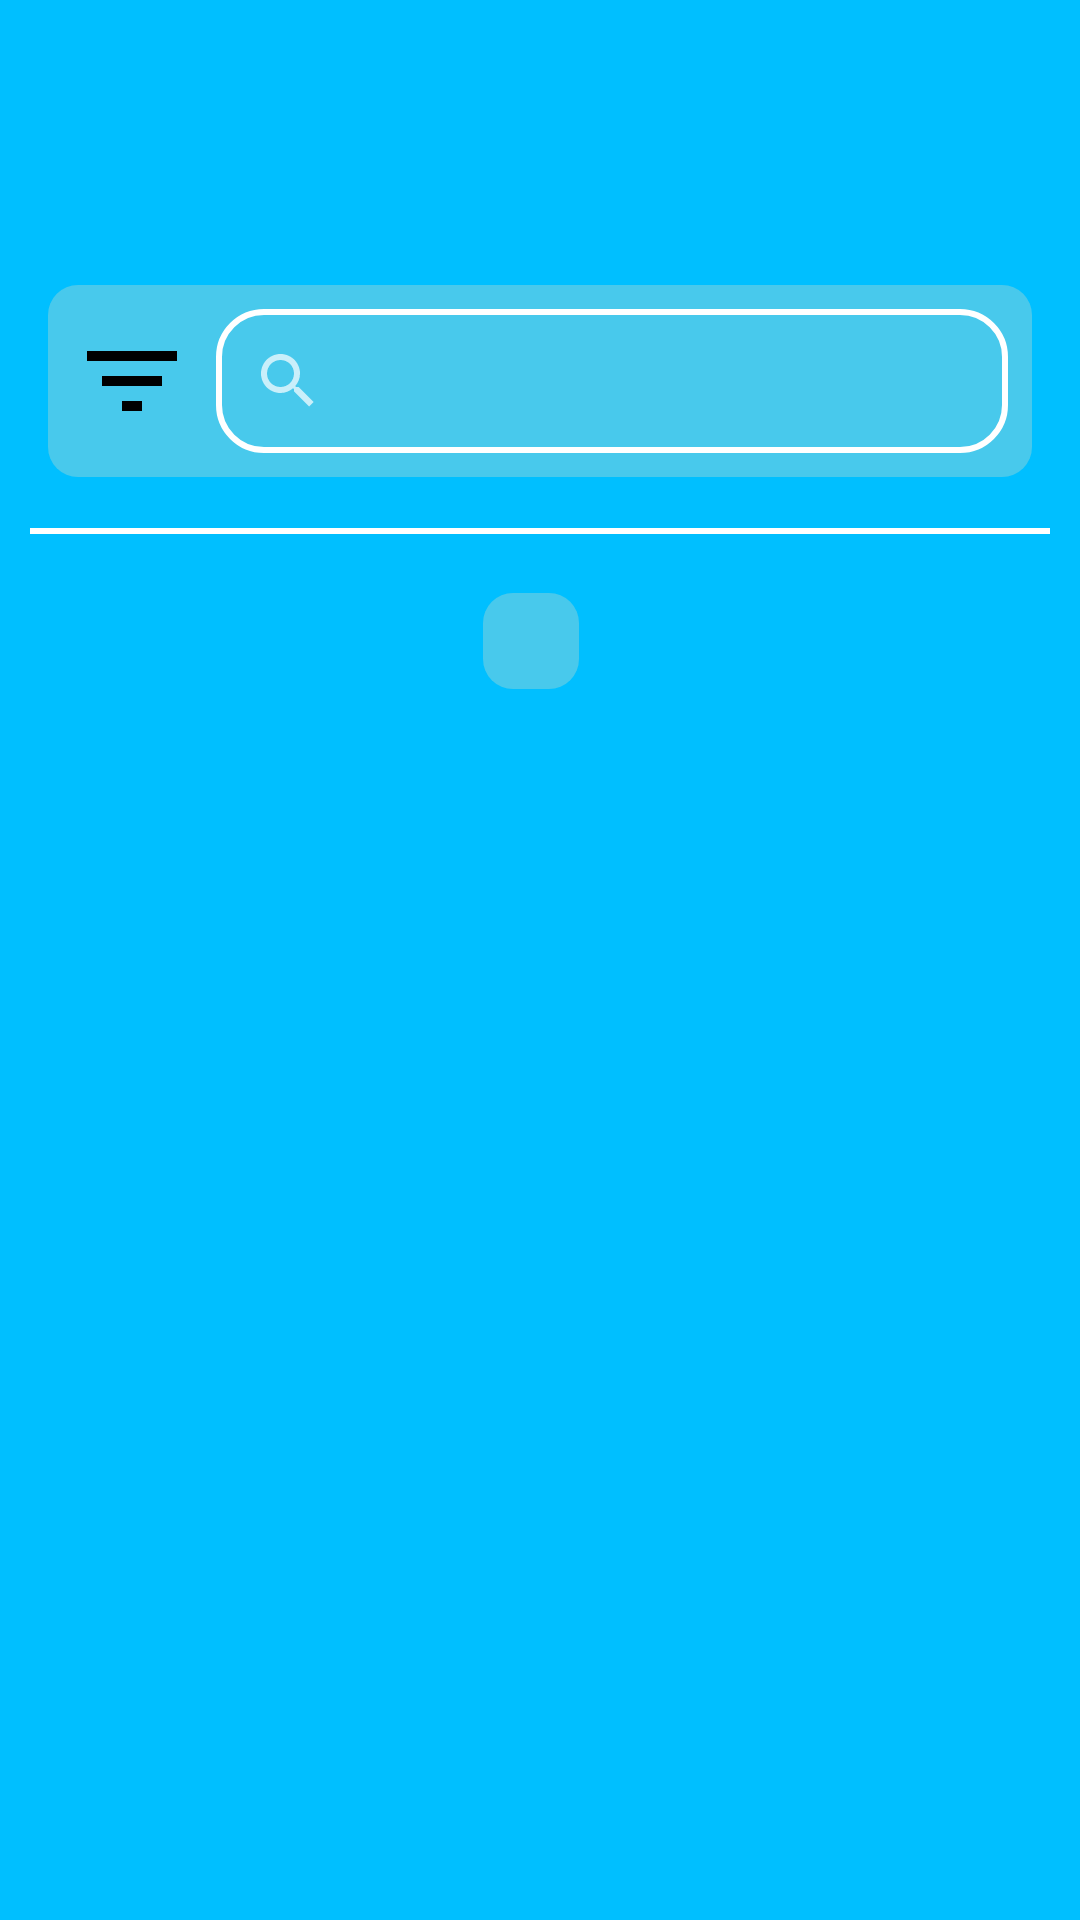

Screen size 1080w x 1920h. Icon name, then its center in pixels as point (x, y):
filter icon: point (132, 381)
